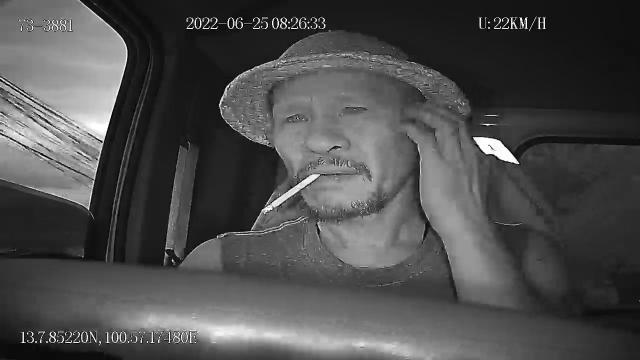SafeDriving: (278, 104, 316, 127), (336, 96, 372, 119)
Smoking: (260, 172, 324, 216)
